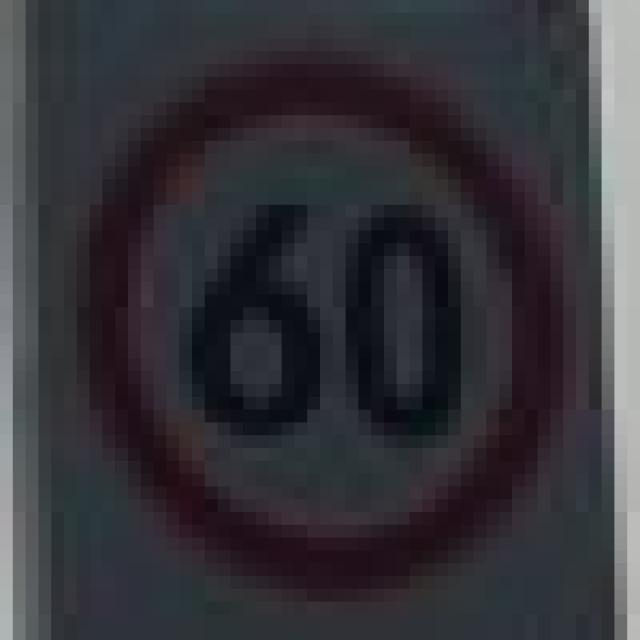SPEED_LIMIT_60: (77, 51, 550, 576)
